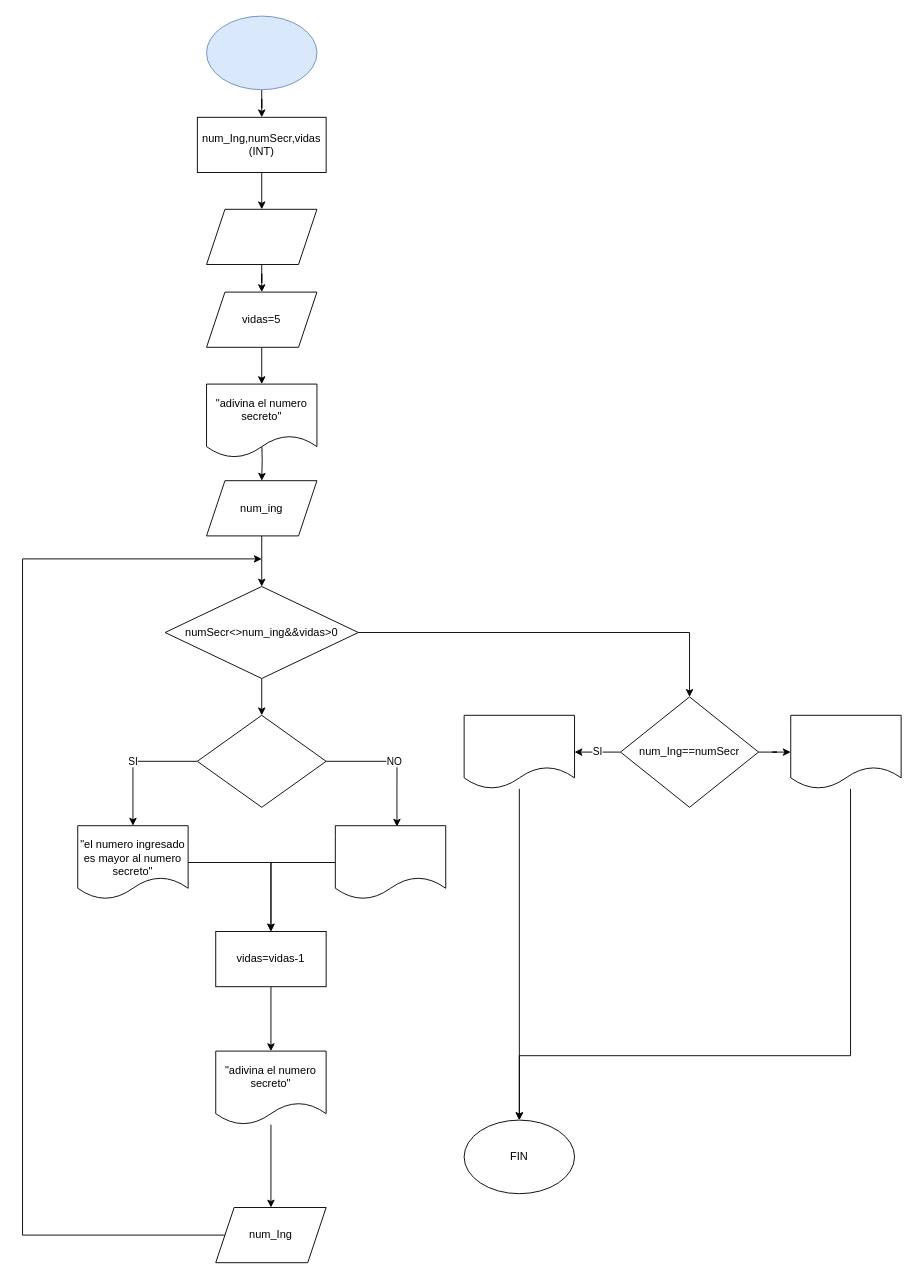
The diagram is 917 pixels wide and 1279 high, and some of its shapes have lost their labels. Each missing label, with the centre of its shape:
"el numero ingresado es menor al numero secreto": (x=390, y=862)
"felicidades adivinaste el numero secreto": (x=519, y=751)
"se terminaron tus vidas; perdiste": (x=845, y=751)
INICIO: (x=261, y=52)
num_Ing>numSecr: (x=261, y=760)
numSecr=random: (x=261, y=236)
